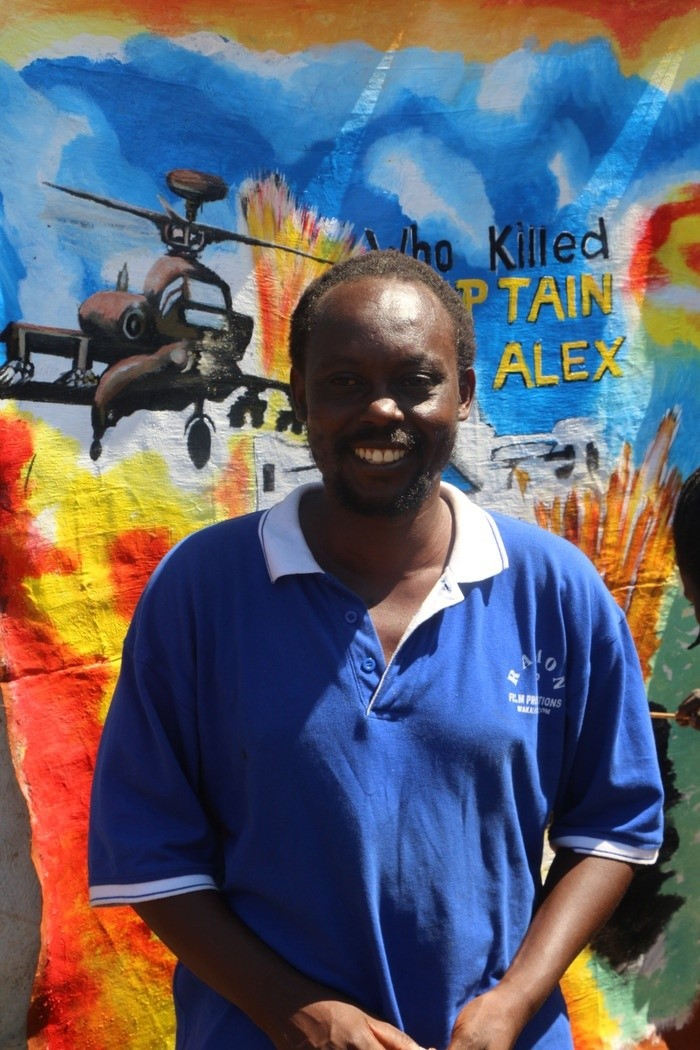face_no_mask: (292, 255, 476, 505)
